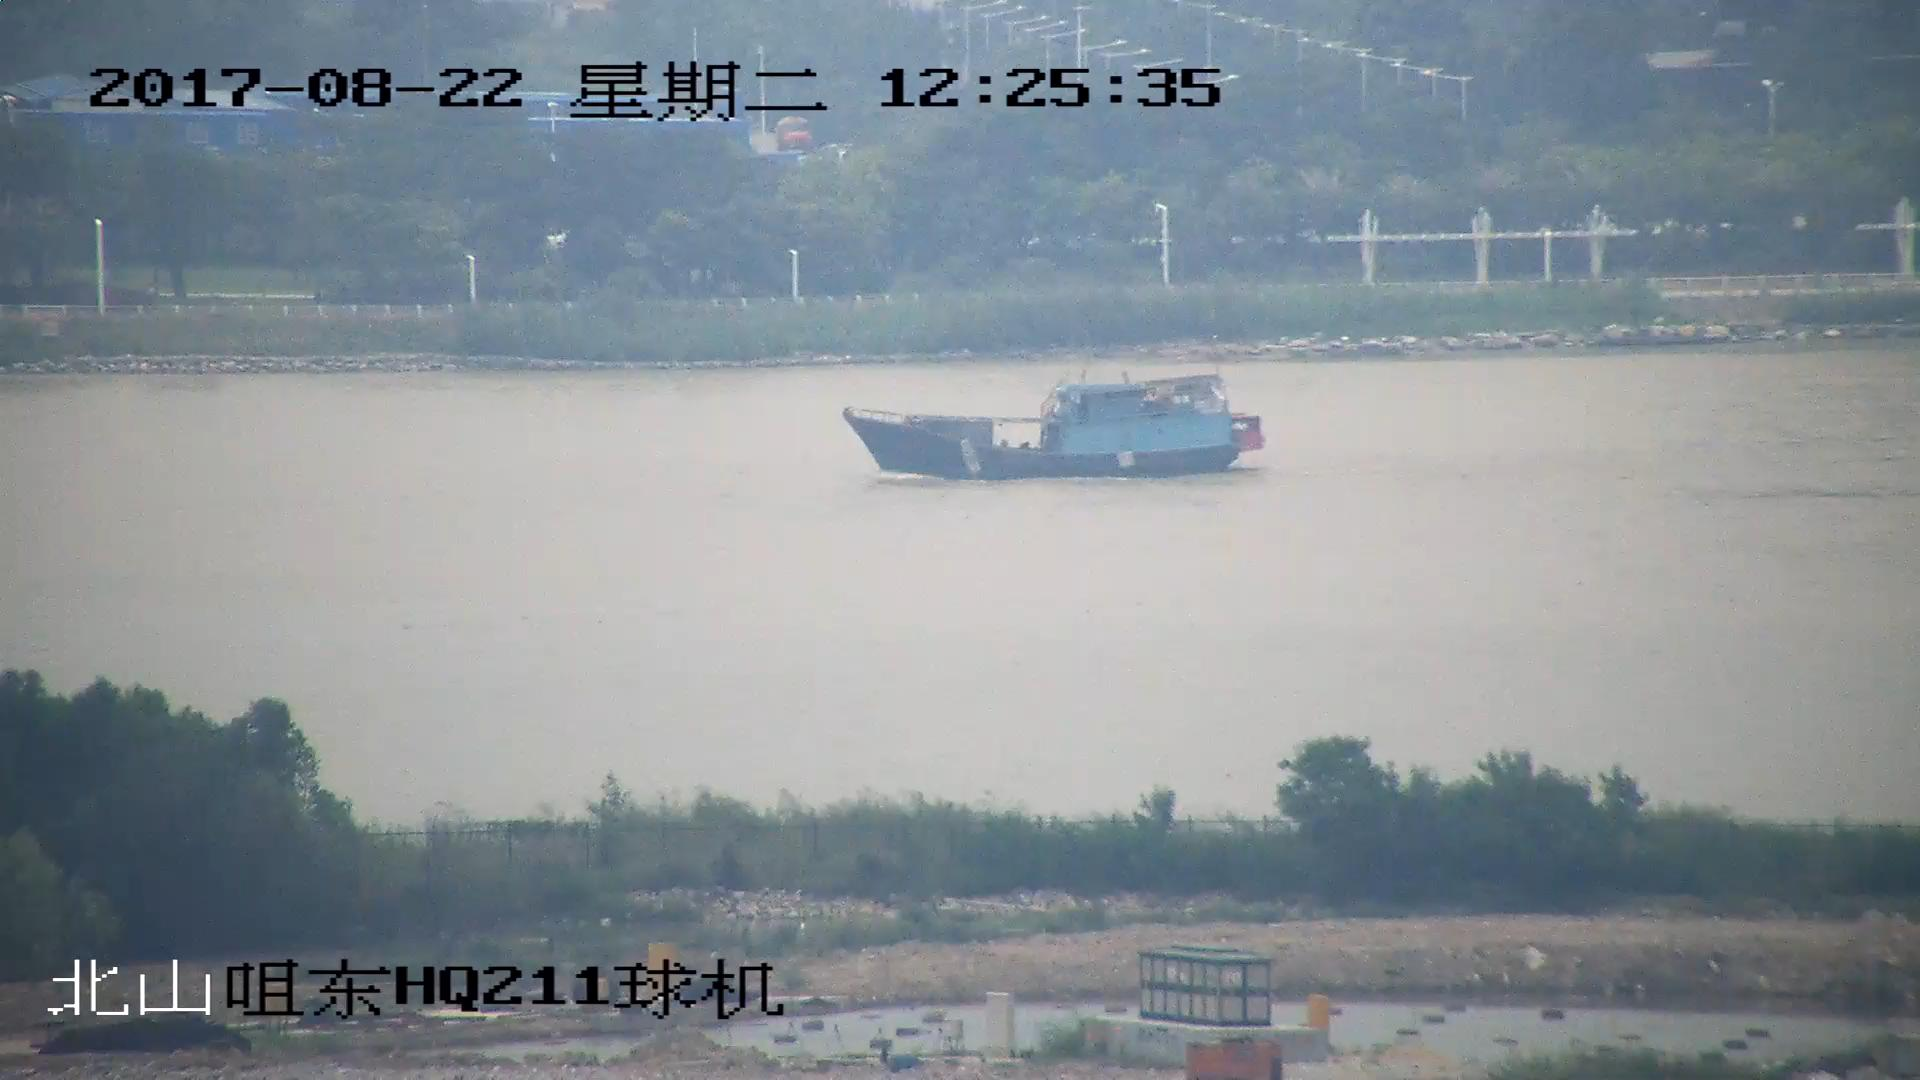fishing boat: (844, 367, 1261, 488)
